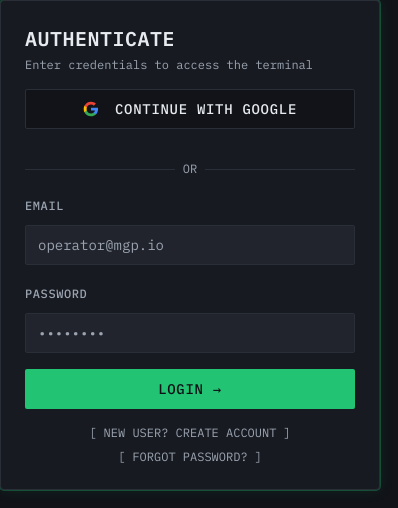
AuthCard › toggles to sign-up mode
Click the button "[ NEW USER? CREATE ACCOUNT ]": coordinates (190, 433) [25, 425, 355, 441]
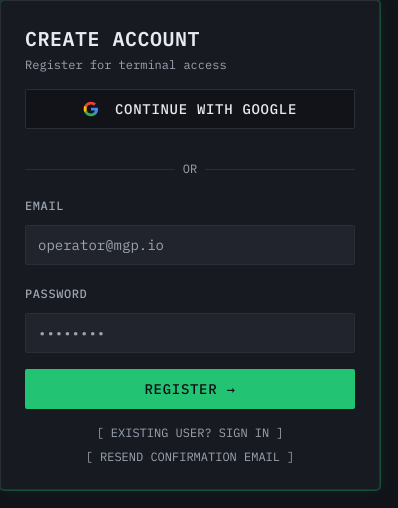
Result: the text "CREATE ACCOUNT" is shown at [25, 25, 200, 52]
Result: the button "REGISTER →" is shown at [25, 369, 355, 409]
